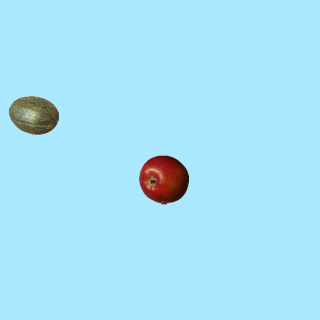Apple Braeburn: (138, 154, 188, 204)
Melon Piel de Sapo: (8, 90, 58, 140)
